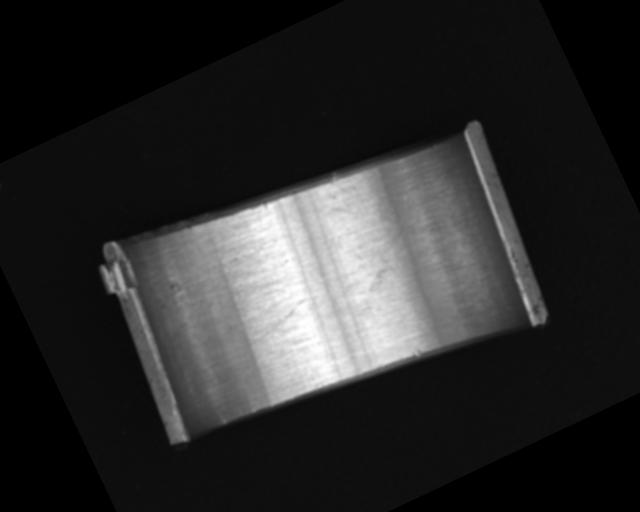blot: (349, 230, 419, 296)
bruise: (412, 346, 424, 358)
nick: (216, 410, 228, 426)
